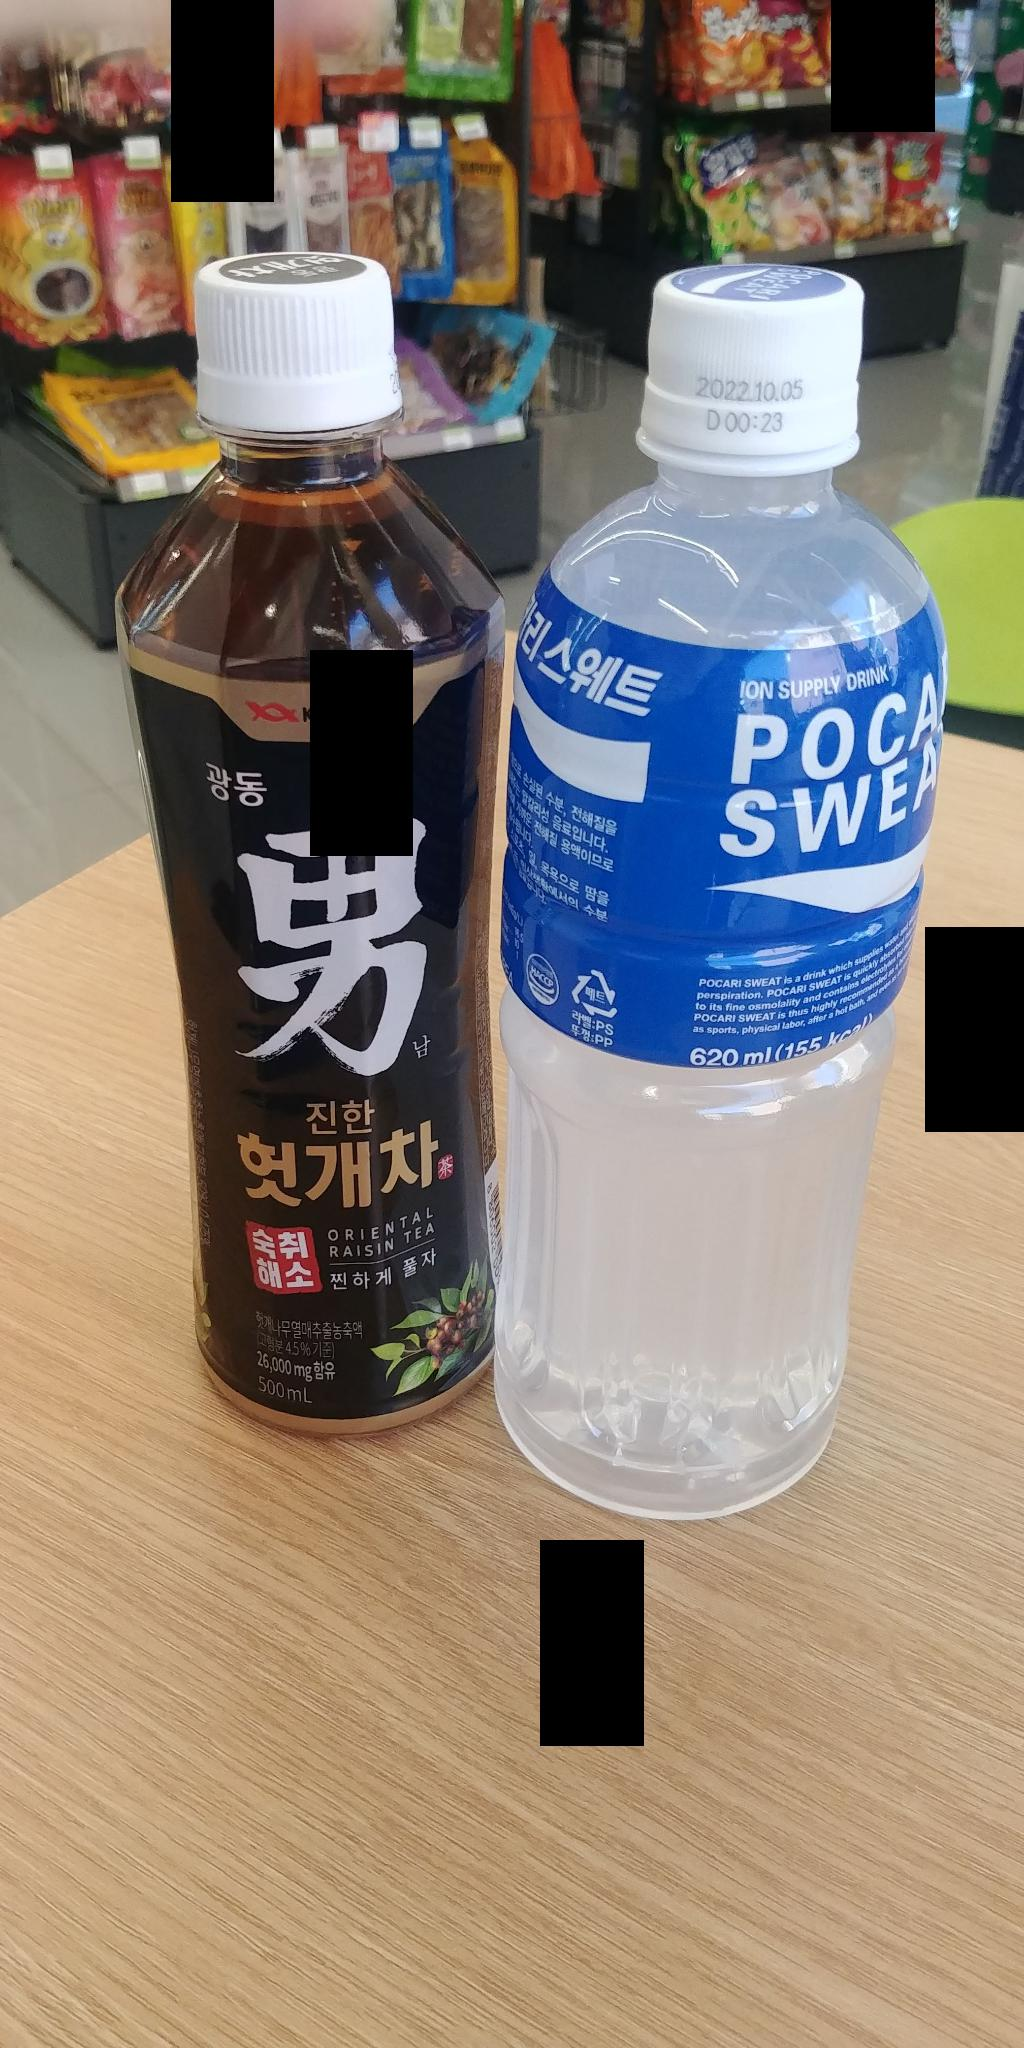heotgaecha: (69, 231, 538, 1434)
pocarisweat: (461, 226, 989, 1566)
